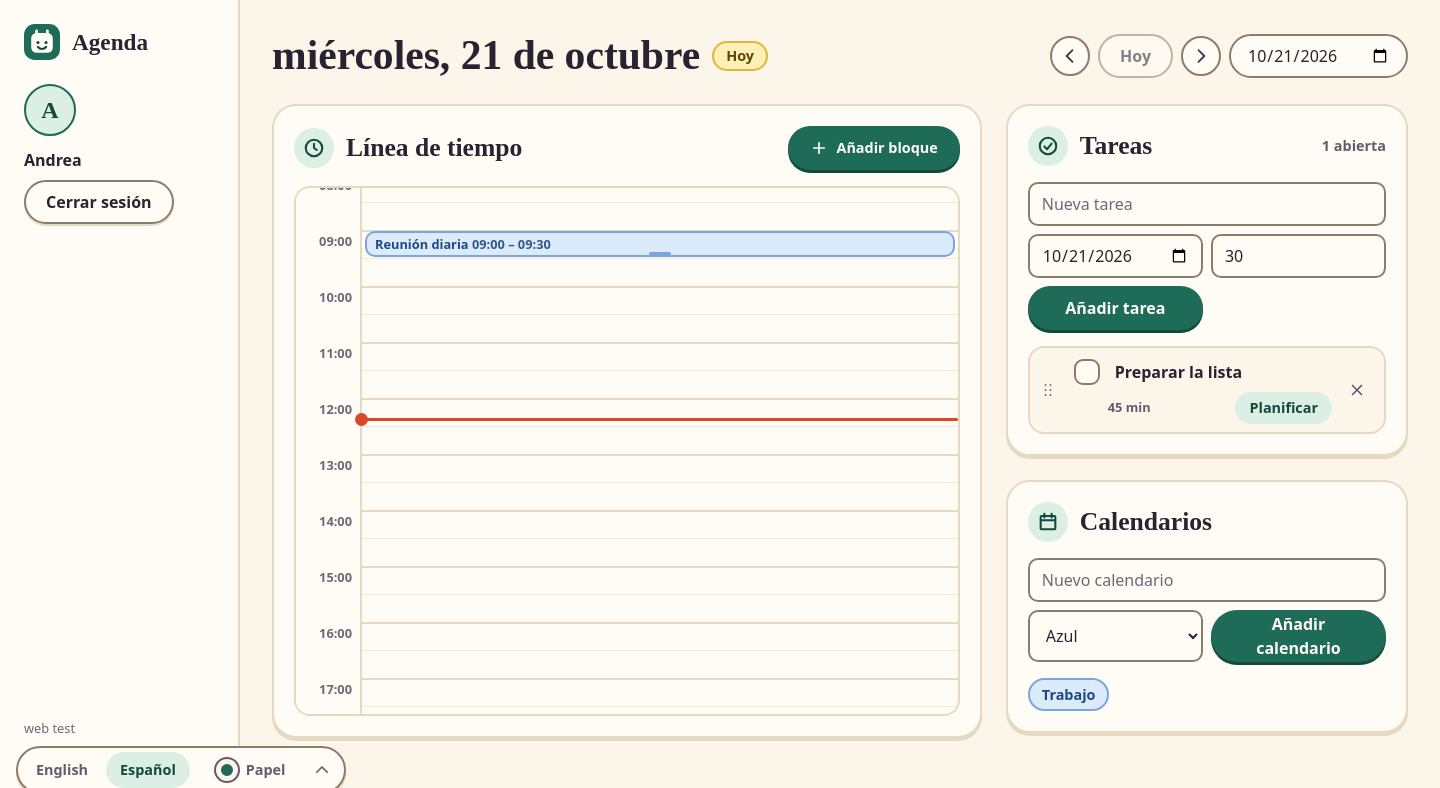
Test: the planner in Spanish › writes the title of a new block in the current language
(page scrolled)
Click the button "Añadir bloque". click: (874, 148)
box: [788, 126, 960, 170]
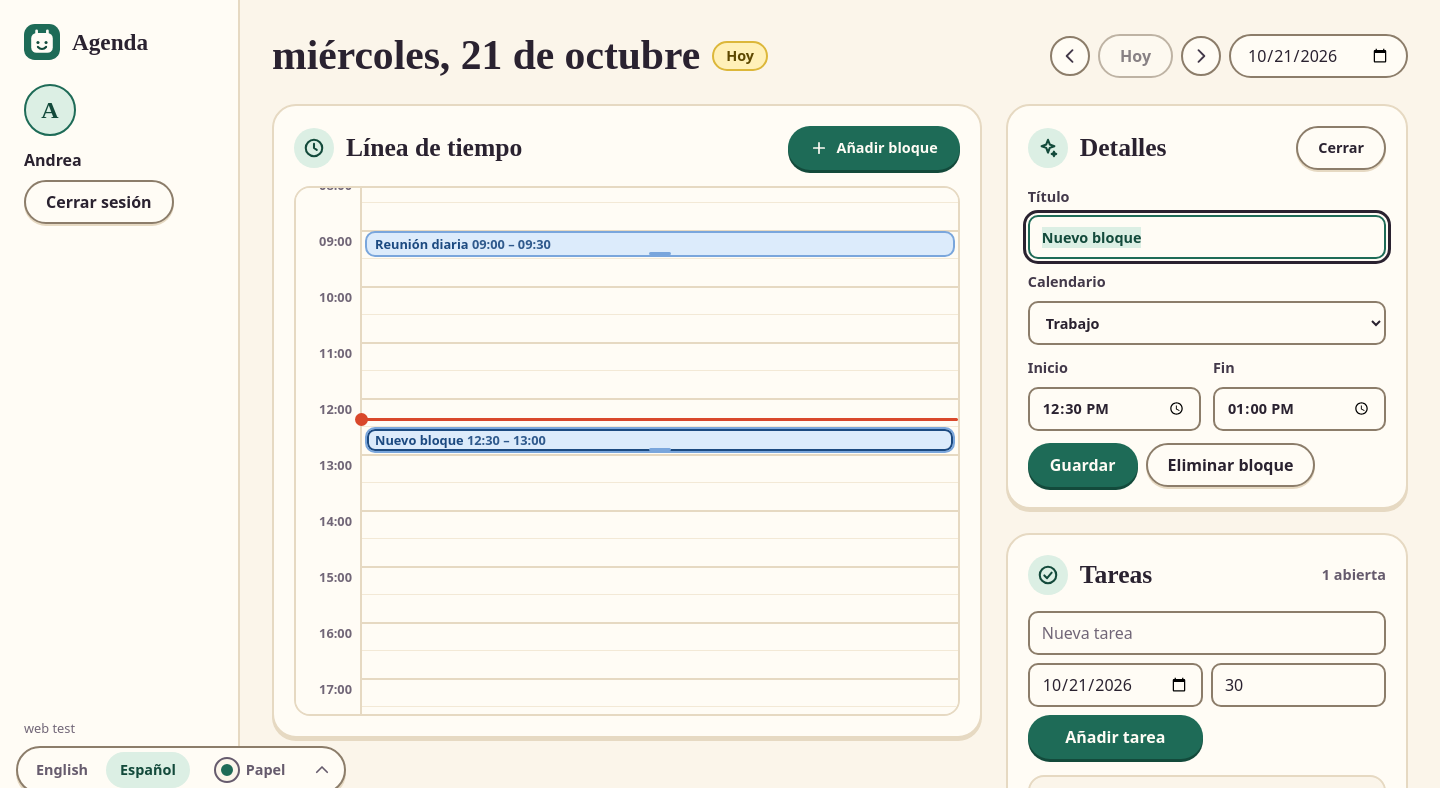
Check: the field labelled "Título" holds "Nuevo bloque", box [1028, 215, 1386, 259]
